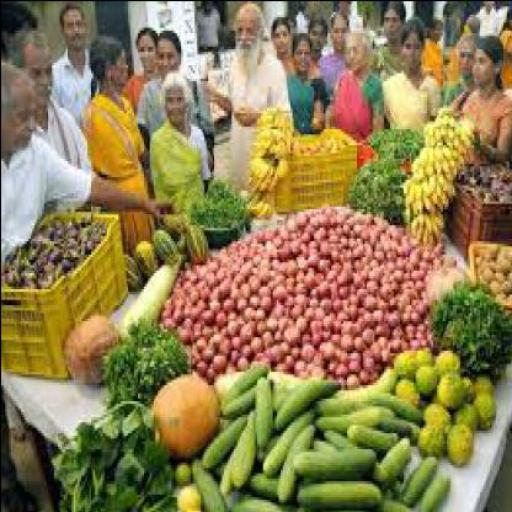biodegradable: (53, 394, 176, 509), (160, 262, 279, 360), (409, 98, 475, 240), (317, 248, 397, 358), (320, 266, 434, 342), (433, 274, 511, 378), (103, 317, 192, 403), (274, 239, 334, 360), (118, 242, 184, 341), (152, 368, 221, 459), (120, 248, 184, 339), (256, 224, 295, 357), (315, 384, 426, 423), (64, 310, 118, 384), (278, 370, 342, 430), (352, 155, 409, 222), (263, 403, 315, 475), (325, 423, 389, 480), (219, 402, 256, 494), (333, 214, 404, 259), (187, 173, 246, 227), (272, 224, 358, 261), (298, 475, 384, 510), (293, 446, 379, 480), (470, 238, 511, 306), (204, 408, 248, 470), (249, 122, 293, 182), (220, 354, 272, 402), (398, 237, 457, 277), (460, 159, 511, 202), (296, 206, 360, 240), (402, 453, 440, 507), (191, 458, 231, 509), (319, 405, 390, 432), (348, 414, 400, 450), (379, 427, 412, 483), (231, 485, 297, 509), (371, 122, 423, 152), (254, 371, 274, 443), (248, 147, 281, 189), (254, 104, 294, 138), (354, 360, 398, 390), (420, 469, 452, 509), (221, 382, 258, 416), (378, 414, 420, 443), (438, 366, 467, 408), (294, 133, 348, 155), (348, 421, 394, 445), (448, 419, 474, 461), (247, 466, 281, 498), (219, 234, 256, 262), (215, 366, 247, 398), (424, 398, 454, 430), (155, 227, 180, 264), (188, 219, 211, 259), (420, 422, 448, 454), (232, 494, 286, 510), (424, 264, 451, 296), (473, 386, 497, 421), (258, 424, 281, 458), (399, 370, 423, 402), (137, 237, 156, 277), (455, 398, 479, 427), (416, 362, 439, 392), (395, 344, 420, 371), (276, 376, 295, 410), (178, 482, 201, 510), (248, 194, 276, 216), (436, 347, 461, 371), (128, 246, 142, 288), (164, 211, 188, 235), (462, 368, 478, 398), (178, 455, 194, 480), (418, 341, 436, 363), (443, 262, 465, 280), (314, 432, 338, 448), (386, 496, 412, 510), (338, 264, 354, 286), (236, 350, 256, 366), (286, 320, 300, 342), (346, 368, 359, 390), (321, 336, 334, 358), (272, 339, 286, 358), (217, 346, 231, 365), (193, 355, 207, 374), (319, 274, 332, 293), (206, 360, 219, 378), (336, 355, 348, 374), (276, 358, 293, 371), (365, 350, 377, 368), (313, 358, 326, 374), (226, 358, 239, 374), (343, 330, 356, 346), (273, 298, 286, 314), (295, 352, 309, 366), (199, 346, 211, 362), (187, 338, 199, 354), (355, 330, 367, 346), (275, 280, 287, 296), (242, 278, 254, 294), (361, 362, 371, 381), (348, 354, 361, 368), (200, 334, 210, 350), (324, 352, 334, 366), (479, 371, 492, 381), (261, 344, 274, 354), (287, 349, 295, 362), (337, 328, 344, 342), (375, 360, 381, 376), (256, 347, 263, 355)
